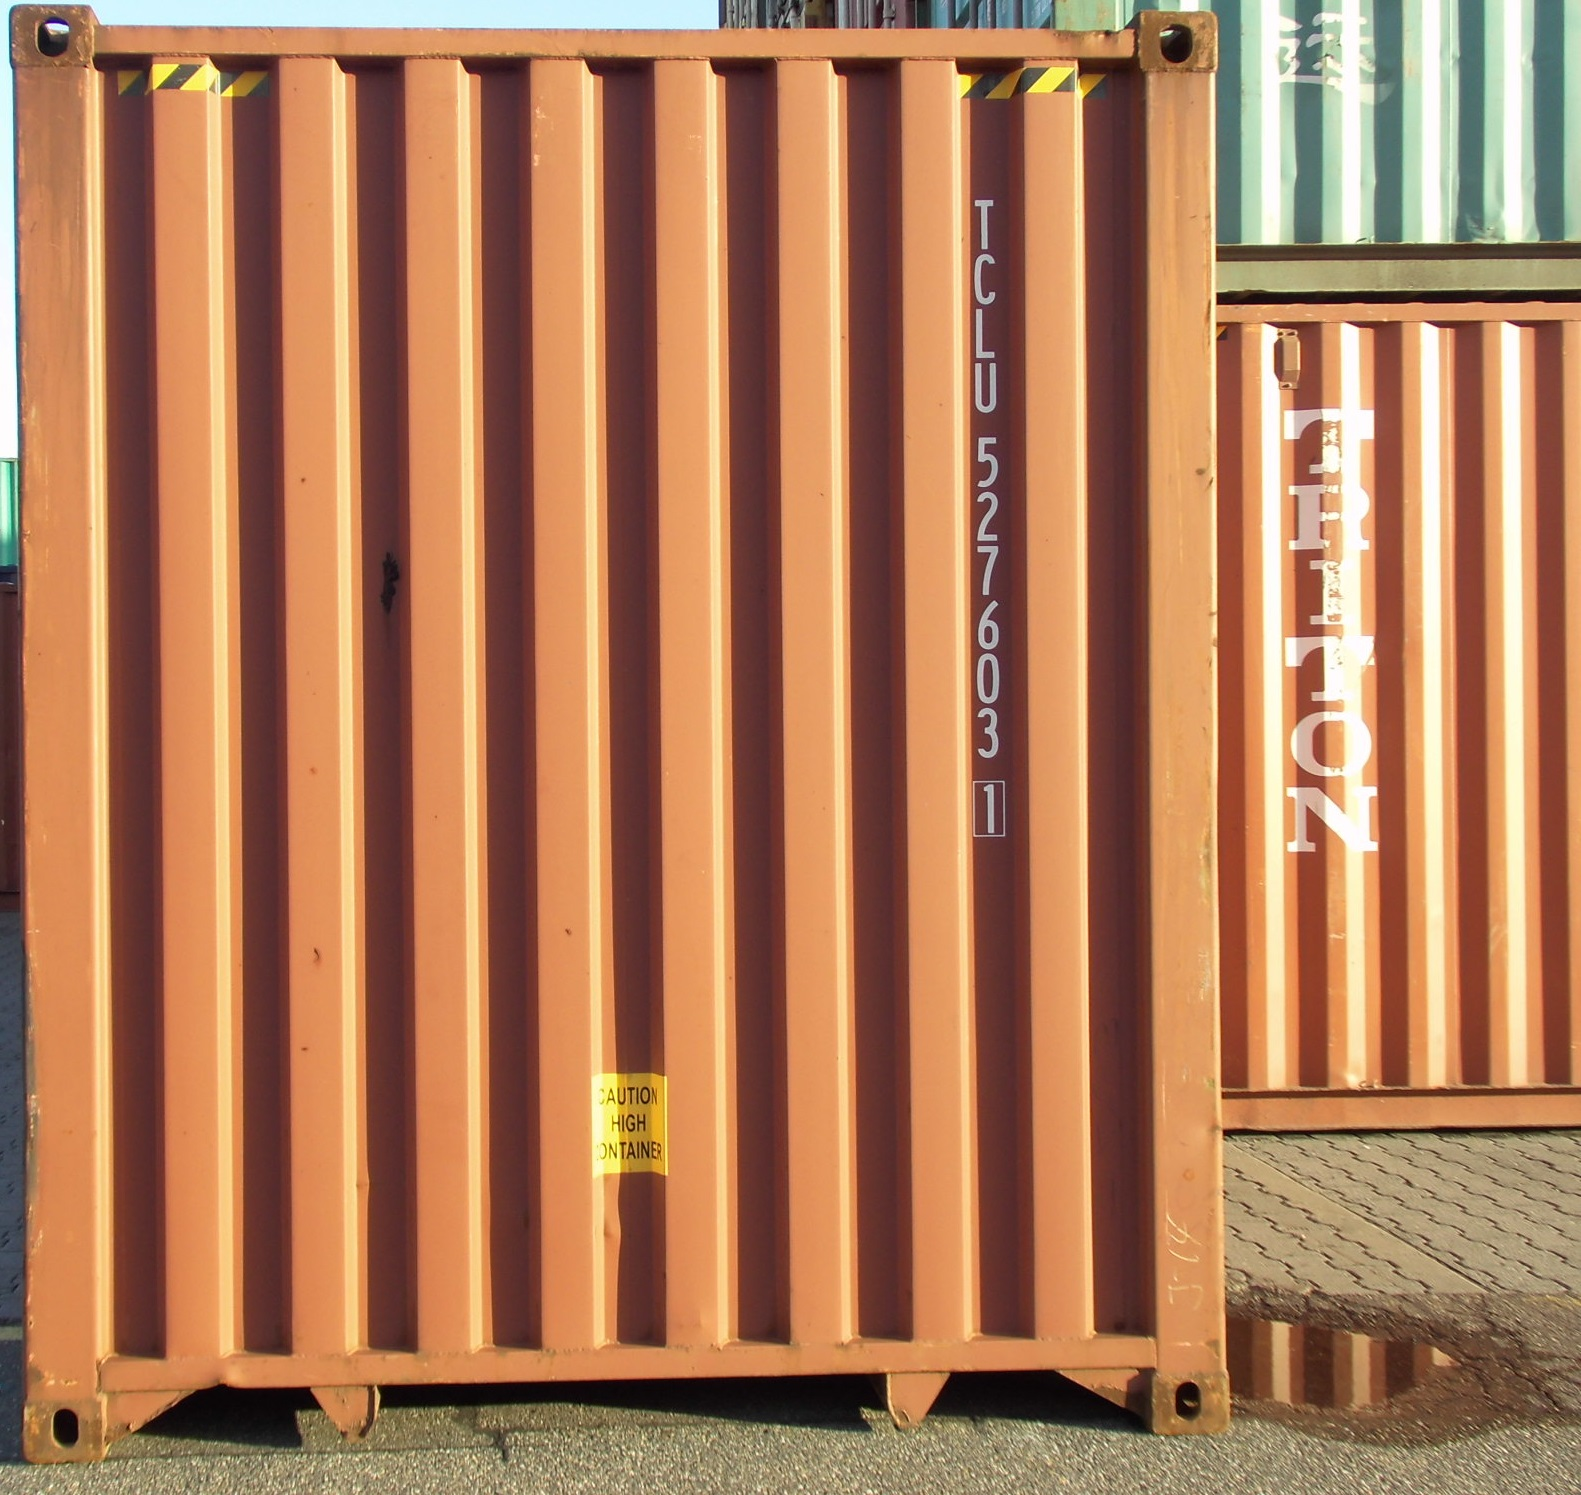container_no_door: (15, 15, 1242, 1456)
